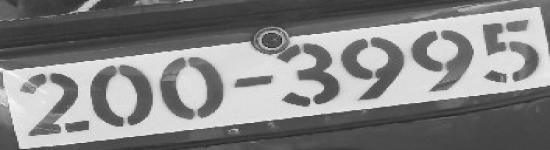-: (230, 66, 276, 94)
0: (157, 55, 229, 122), (90, 62, 156, 130)
2: (16, 71, 90, 139)
3: (276, 41, 340, 108)
5: (478, 16, 542, 84)
9: (340, 33, 408, 103), (408, 26, 477, 92)
